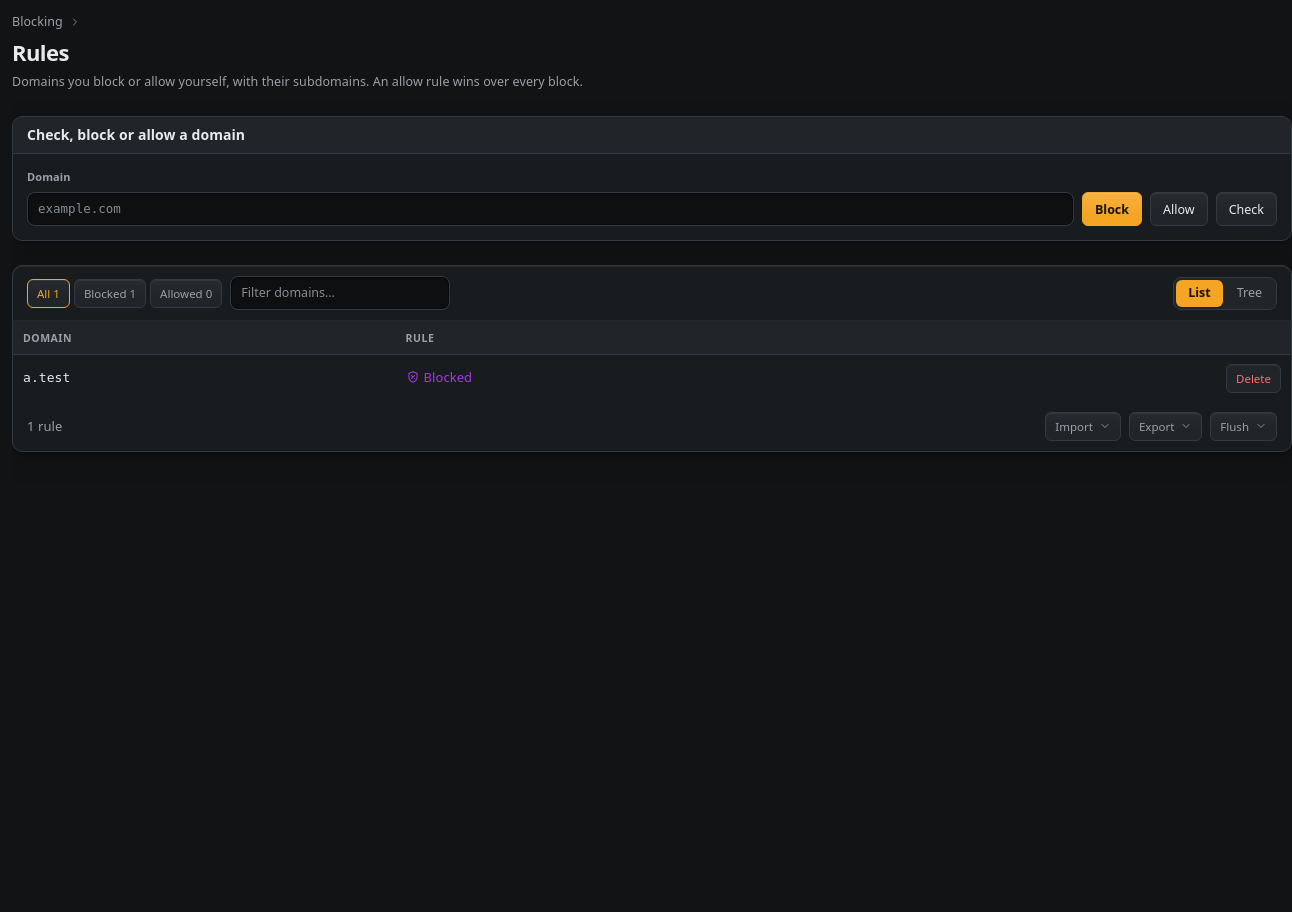
Rules: Delete with Undo › an expired session during Undo says so
Click the button with aria-label "Delete a.test" at (1254, 378), box [1226,364,1281,393]
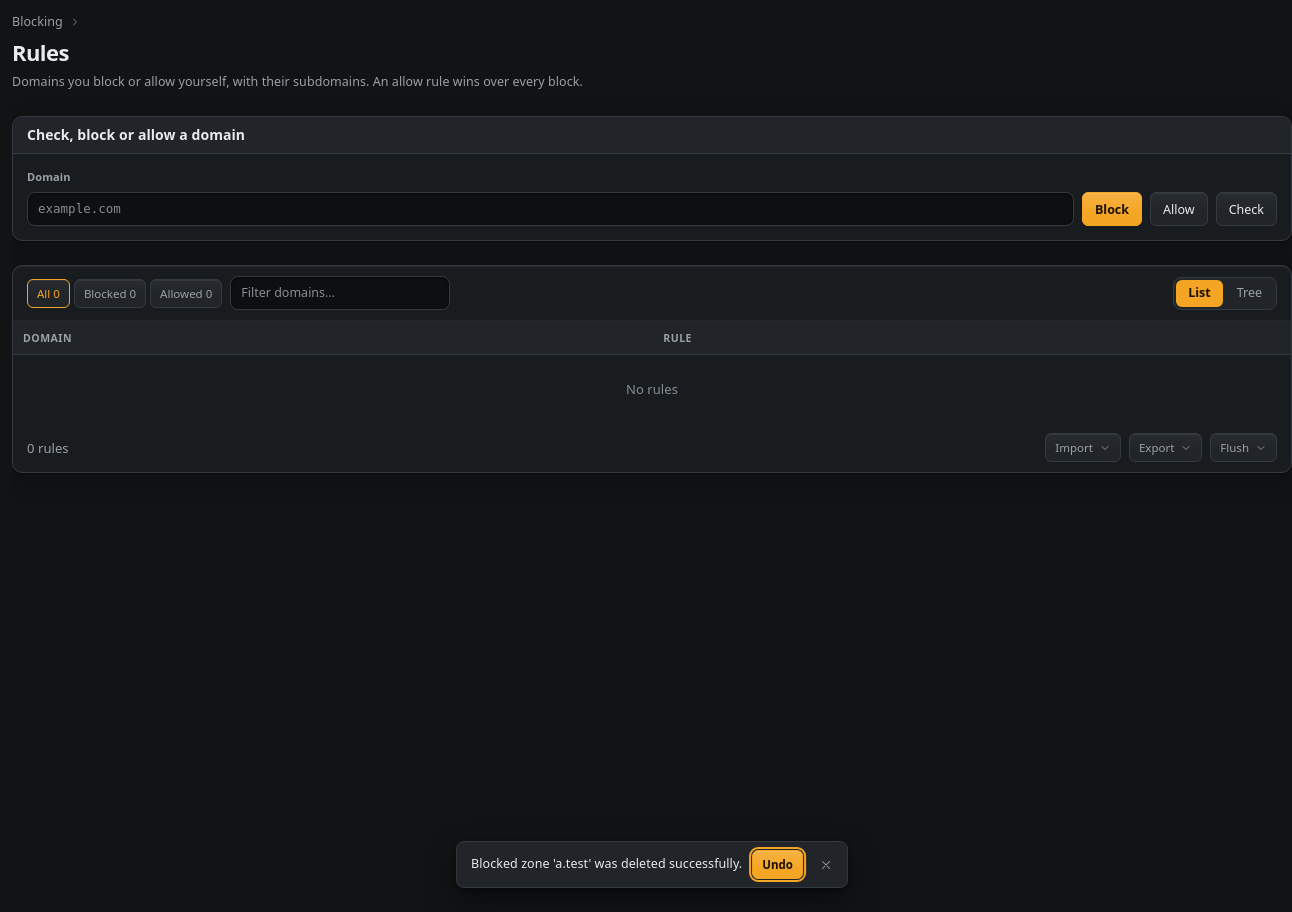
Click the button "Undo" at (778, 864), box [752,850,803,879]
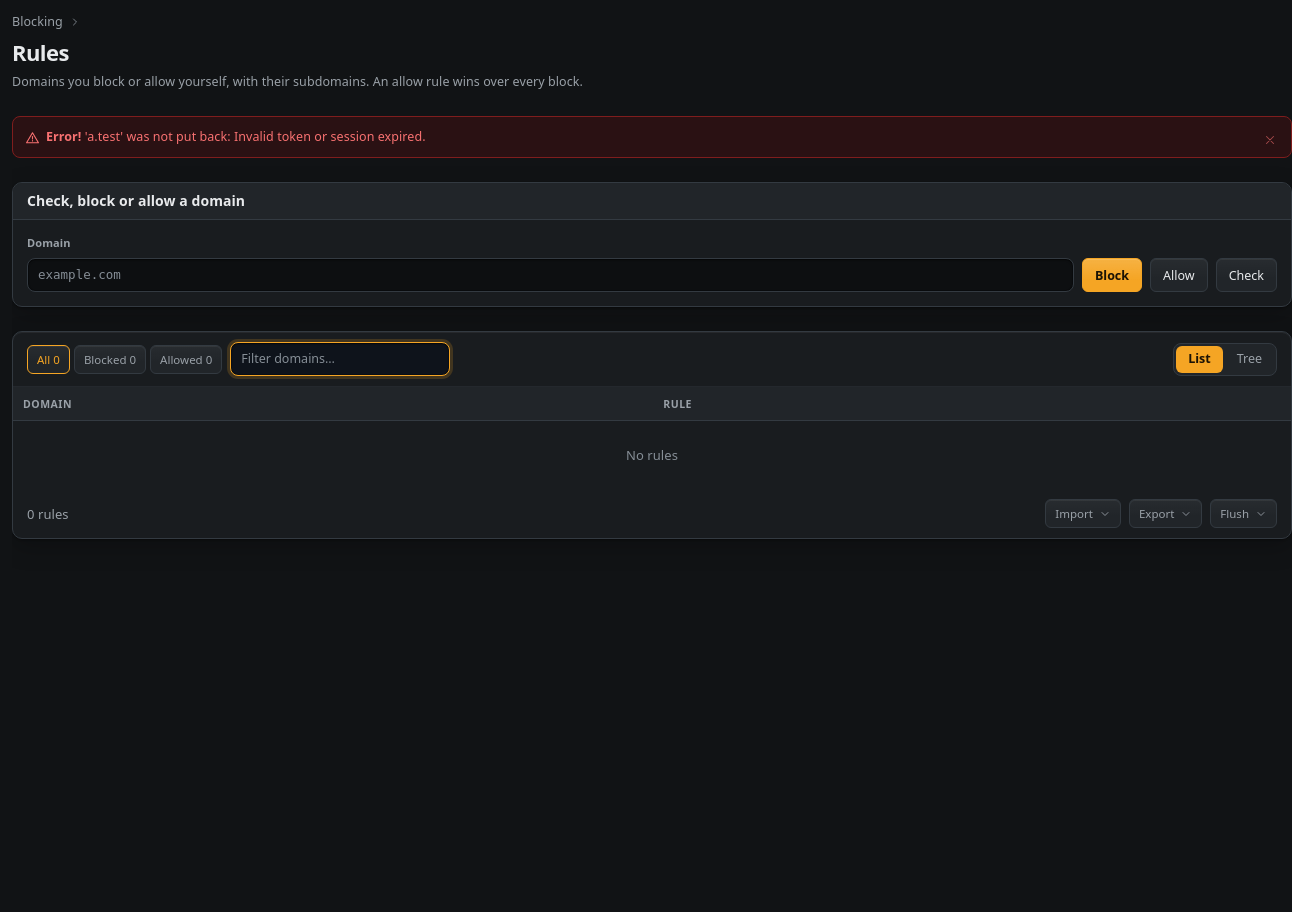
Now the text "'a.test' was not put back: Invalid token or session expired." is shown, box [85,128,426,145]
